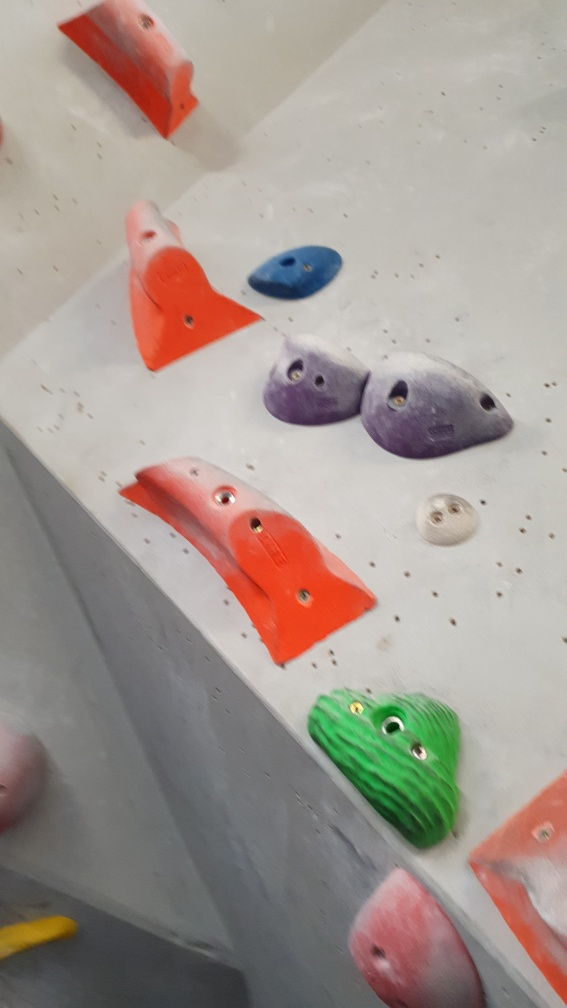Crimp: (242, 241, 343, 299)
Jug: (308, 681, 463, 851), (366, 348, 518, 466), (260, 329, 370, 425)
Pinch: (114, 452, 378, 665), (118, 188, 267, 376), (464, 776, 567, 1006), (53, 1, 209, 138)
